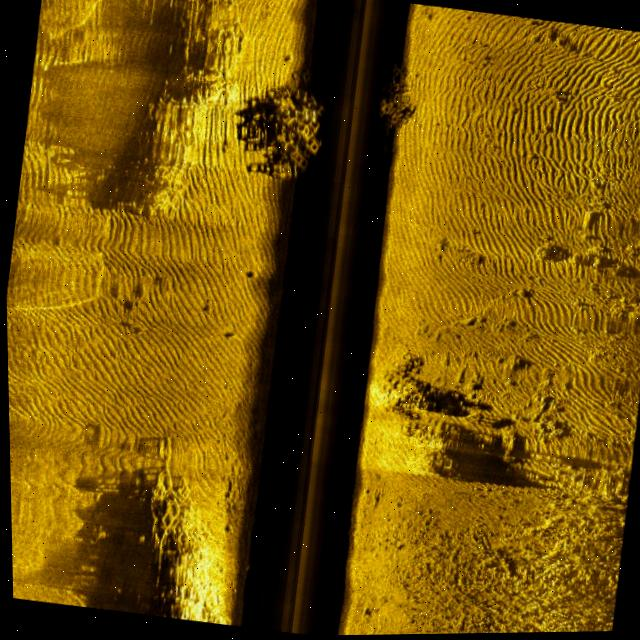artificial reef: (121, 434, 263, 629), (249, 63, 331, 194), (380, 59, 418, 127)
